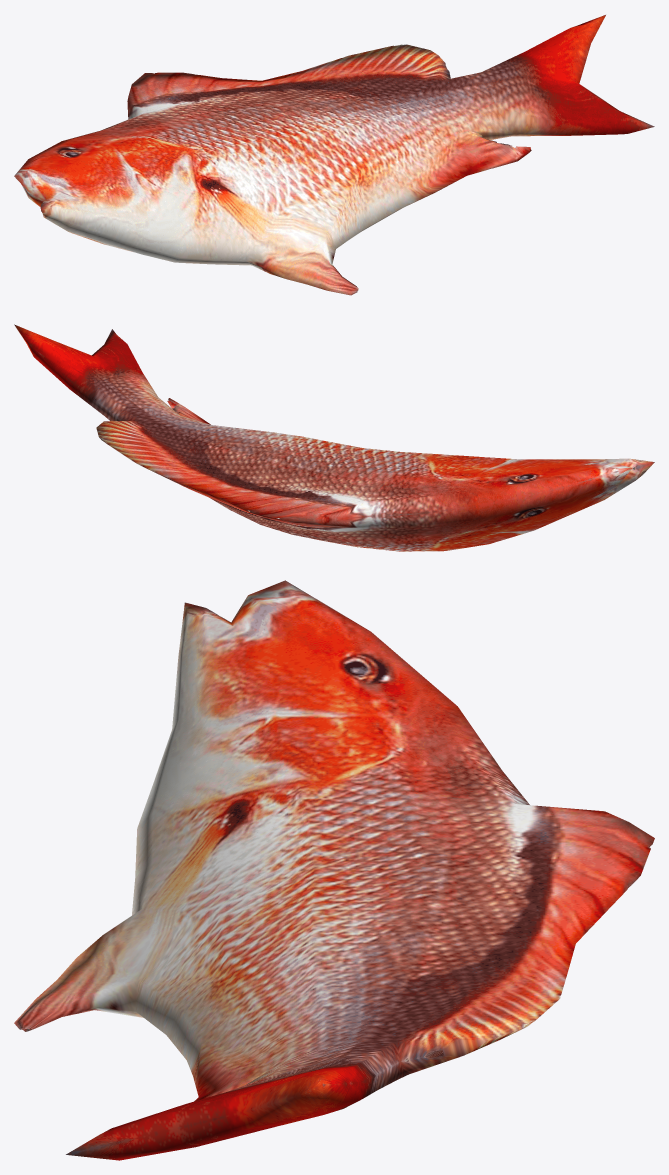
File: Fish.FBX
3 renders of one model, top to bottom at view 1: azimuth 30°, elevation 25°; view 2: azimuth 150°, elevation 25°; view 3: azimuth 270°, elevation 25°, orthographic. The views are drawn at different scales.
Visible parts, largest first — view 1: Fish; view 2: Fish; view 3: Fish.
Part boxes in pixels (bbox=[...]): Fish: bbox=[14, 15, 654, 295]; Fish: bbox=[14, 324, 654, 551]; Fish: bbox=[14, 580, 654, 1160].
Size of the model in its own units: 80.81 by 17.07 by 42.33.
